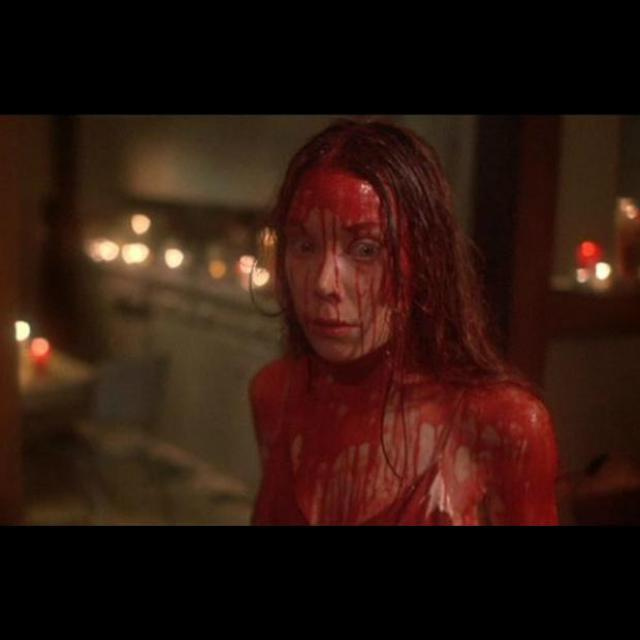blood: (251, 350, 559, 527), (284, 167, 393, 364)
